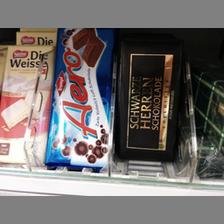Schokolade: (48, 28, 112, 168), (118, 40, 182, 160), (0, 45, 52, 165)
